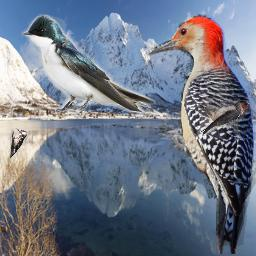Swallow: (21, 13, 156, 116), (198, 100, 251, 135)
Woodpecker: (148, 14, 256, 254), (10, 128, 27, 160)
